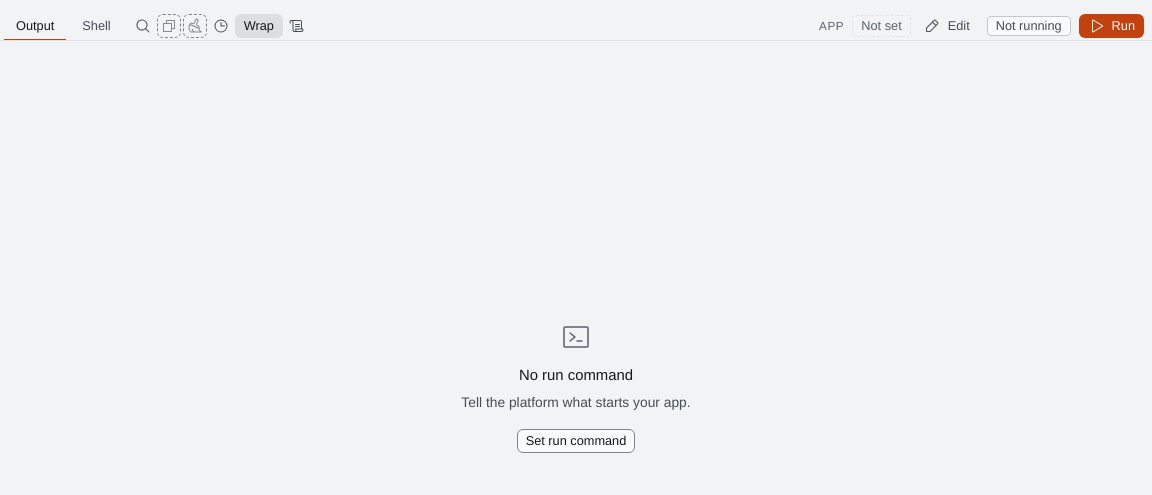
Test case: setting what the project runs, when the save fails › keeps the draft and says why inside the form
This screenshot has width=1152, height=495.
Click the button "Edit": (947, 26) left=915, top=14, right=979, bottom=38
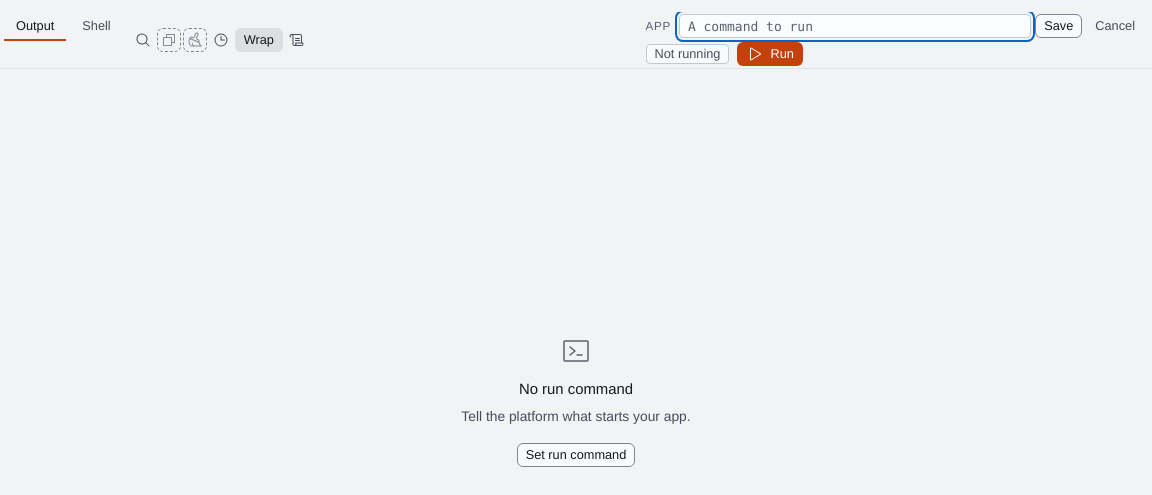
In the field named "Run command": (855, 26) left=680, top=15, right=1030, bottom=37, type "node server.js"
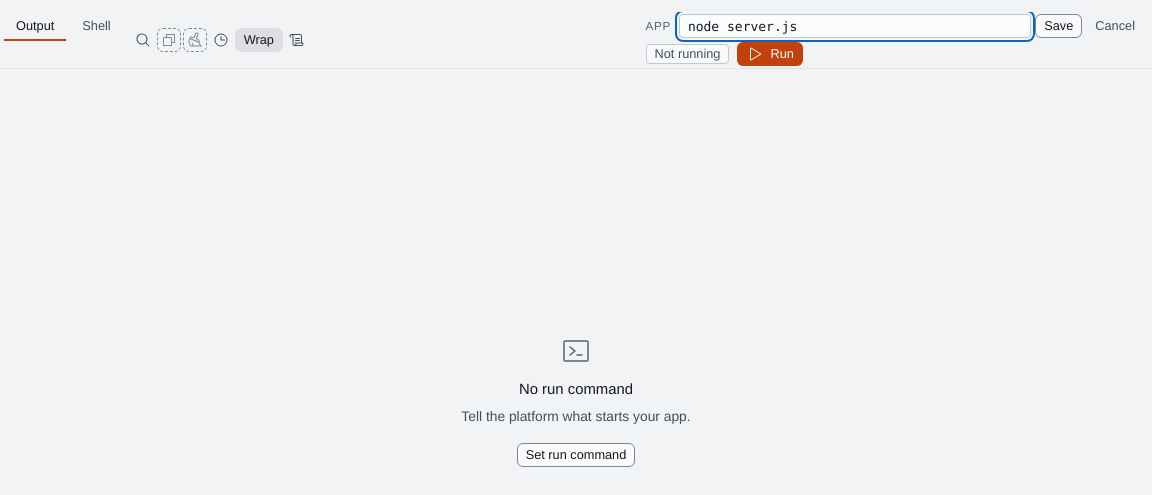
Click the button "Save": (1059, 26) left=1035, top=14, right=1082, bottom=38
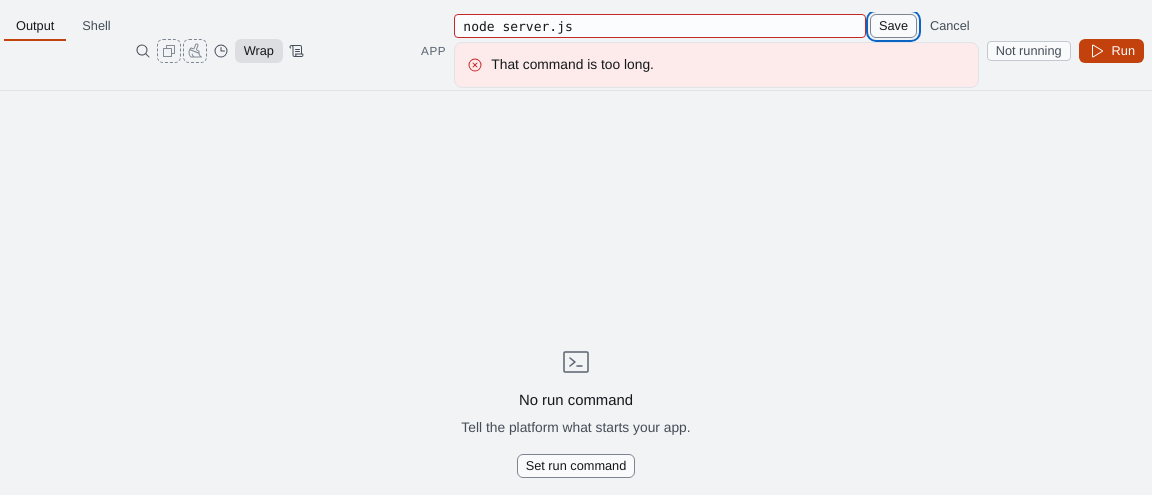
Result: the text "That command is too long." is shown at left=491, top=56, right=654, bottom=73
